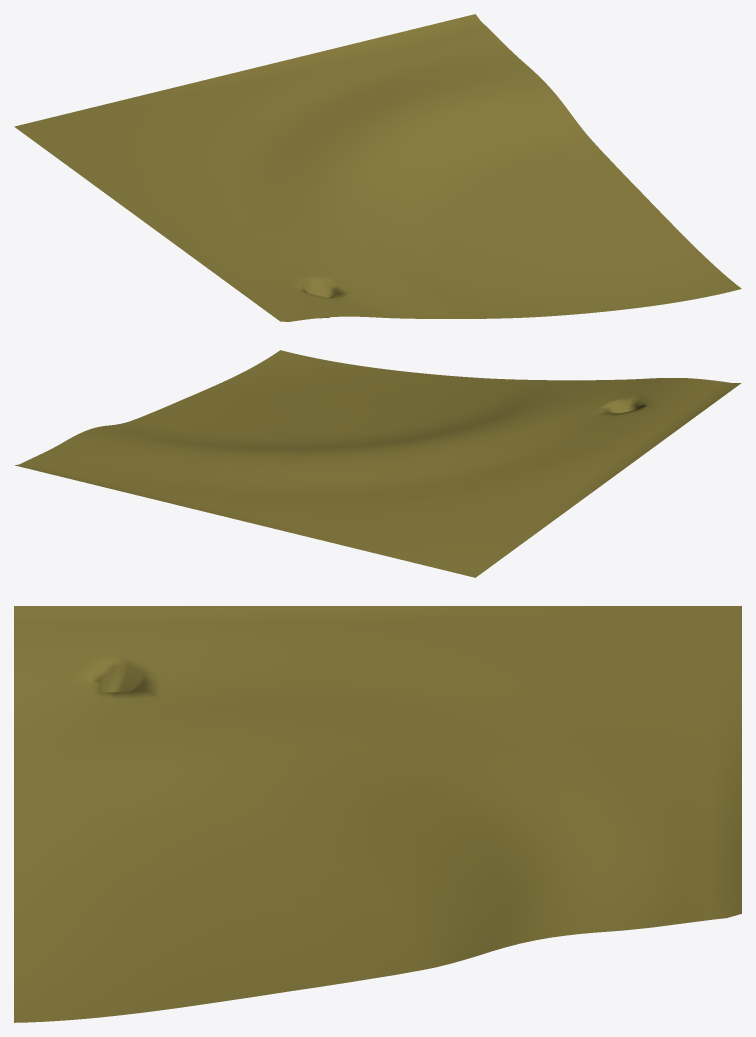
File: Sand.dae
The picture shows the model from 3 angles, top to bottom: view 1: azimuth 30°, elevation 25°; view 2: azimuth 150°, elevation 25°; view 3: azimuth 270°, elevation 25°; orthographic projection. The views are drawn at different scales.
Parts seen in each view (by area): view 1: DaSand; view 2: DaSand; view 3: DaSand.
Part boxes in pixels (x1,y1,x2,y2): DaSand: [14, 14, 741, 321]; DaSand: [15, 350, 741, 577]; DaSand: [14, 606, 741, 1022].
Size of the model in its own units: 50 by 8.27 by 50.
